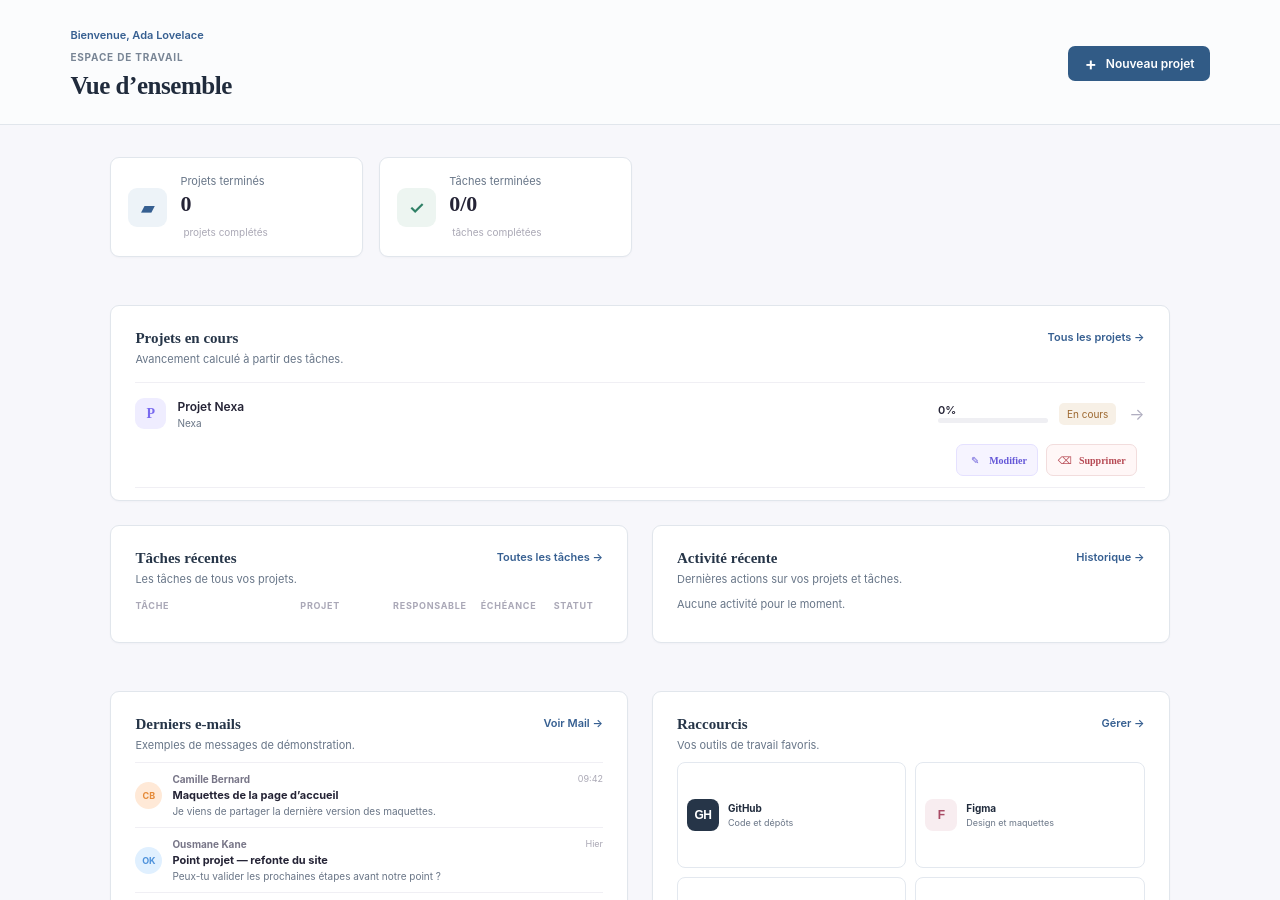
it: DashboardPage › greets the signed-in user and opens the existing project form in a modal
This screenshot has width=1280, height=900.
expect the heading "Bienvenue, Ada Lovelace" is shown: met, box [70,28,204,42]
Step 1. Click the button "+ Nouveau projet" → (1139, 64), box [1068,46,1210,81]
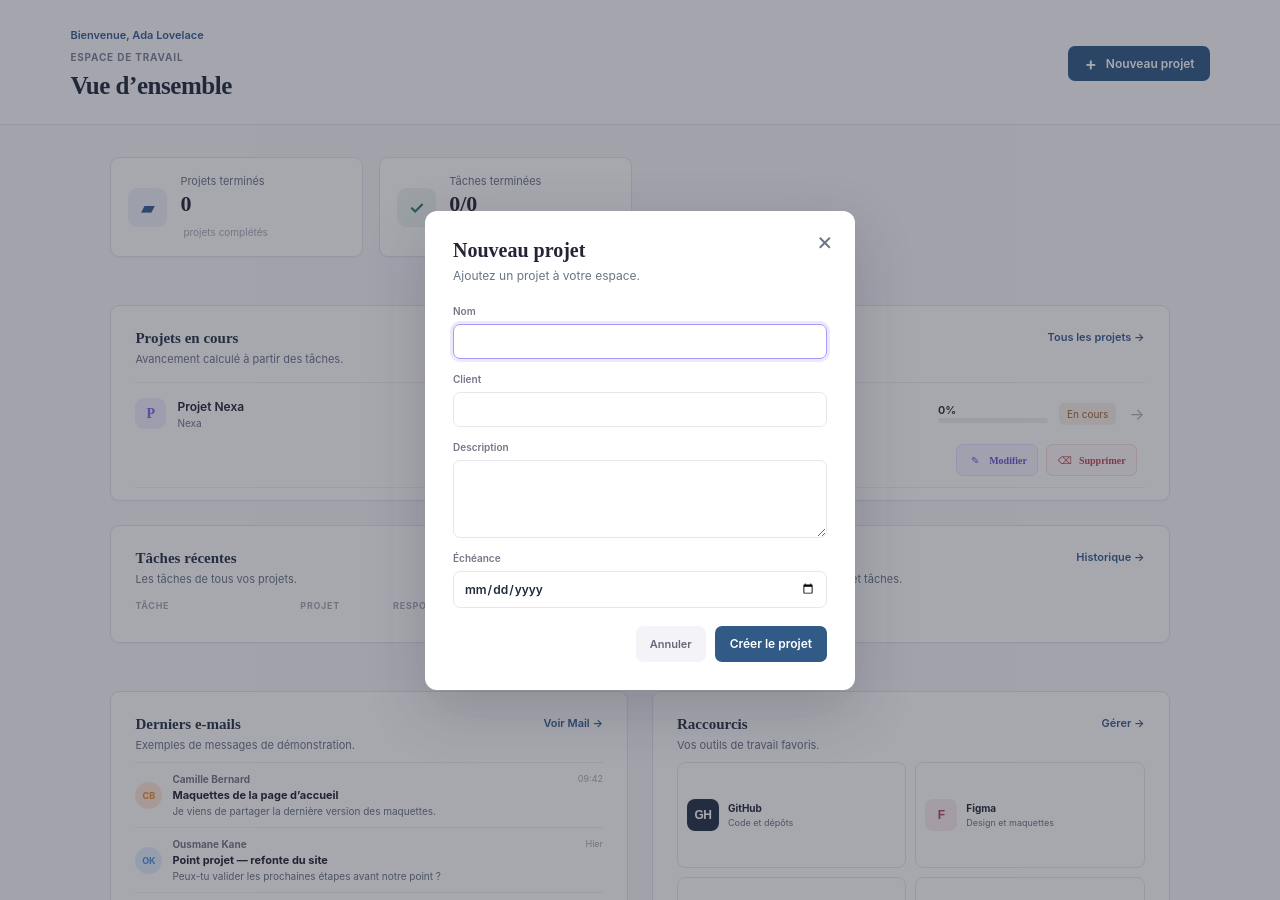
expect the dialog "Nouveau projet" is shown: met, box [425,210,855,690]
Step 2. Type "Projet portfolio" into the field labelled "Nom" → (640, 341), box [453,324,827,358]
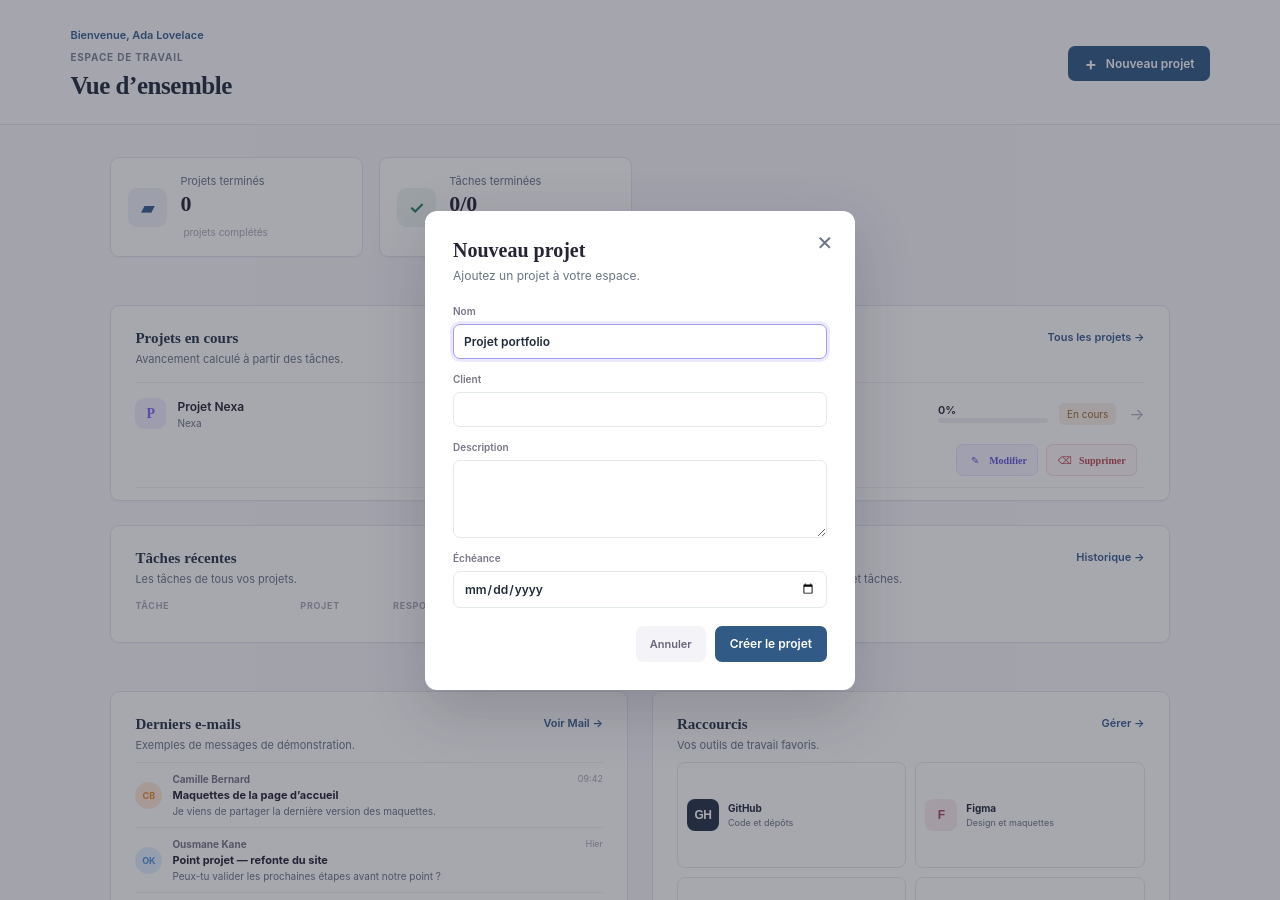
Step 3. Type "Nexa" into the field labelled "Client" → (640, 409), box [453,392,827,426]
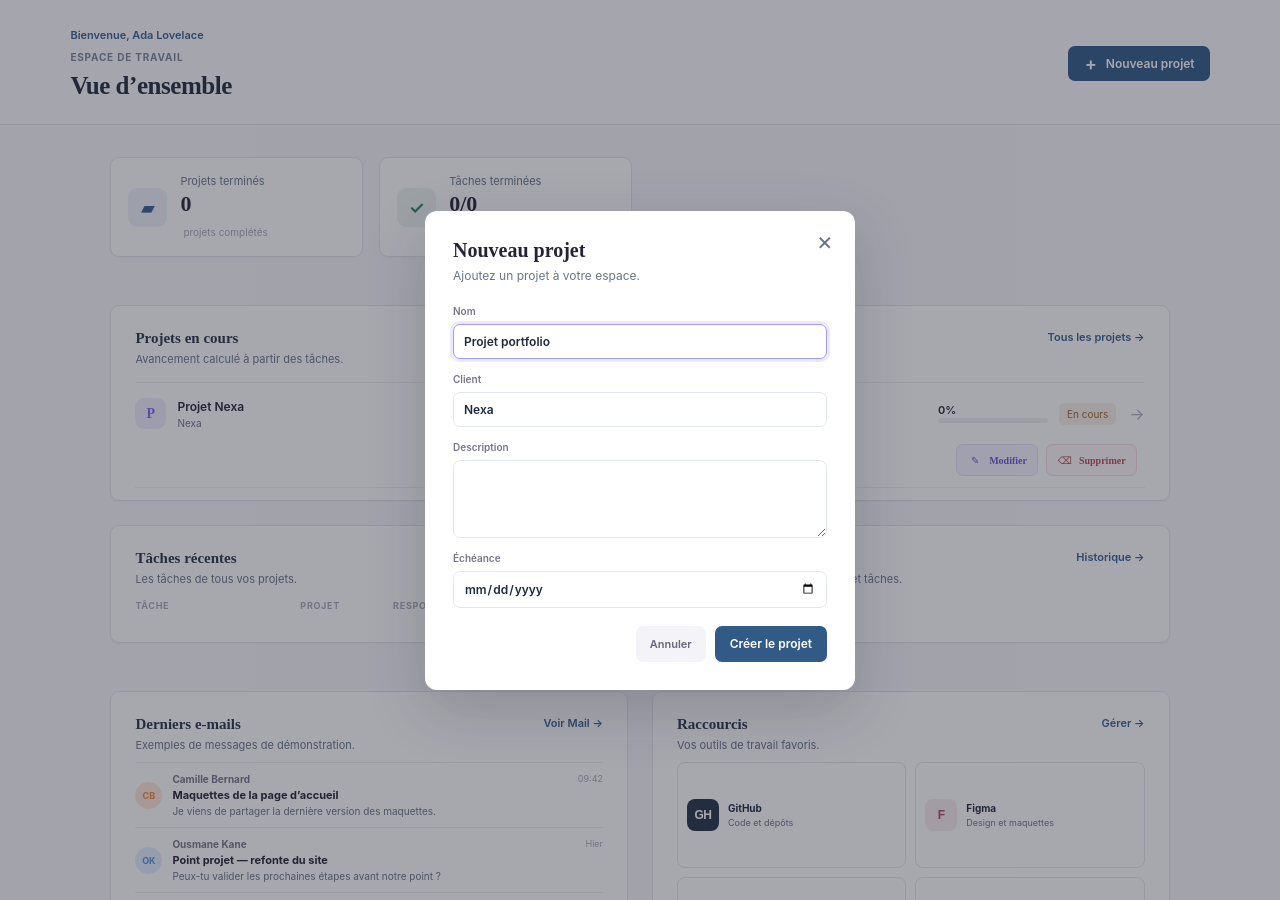
Step 4. Click the button "Créer le projet" → (771, 644), box [715,626,827,662]
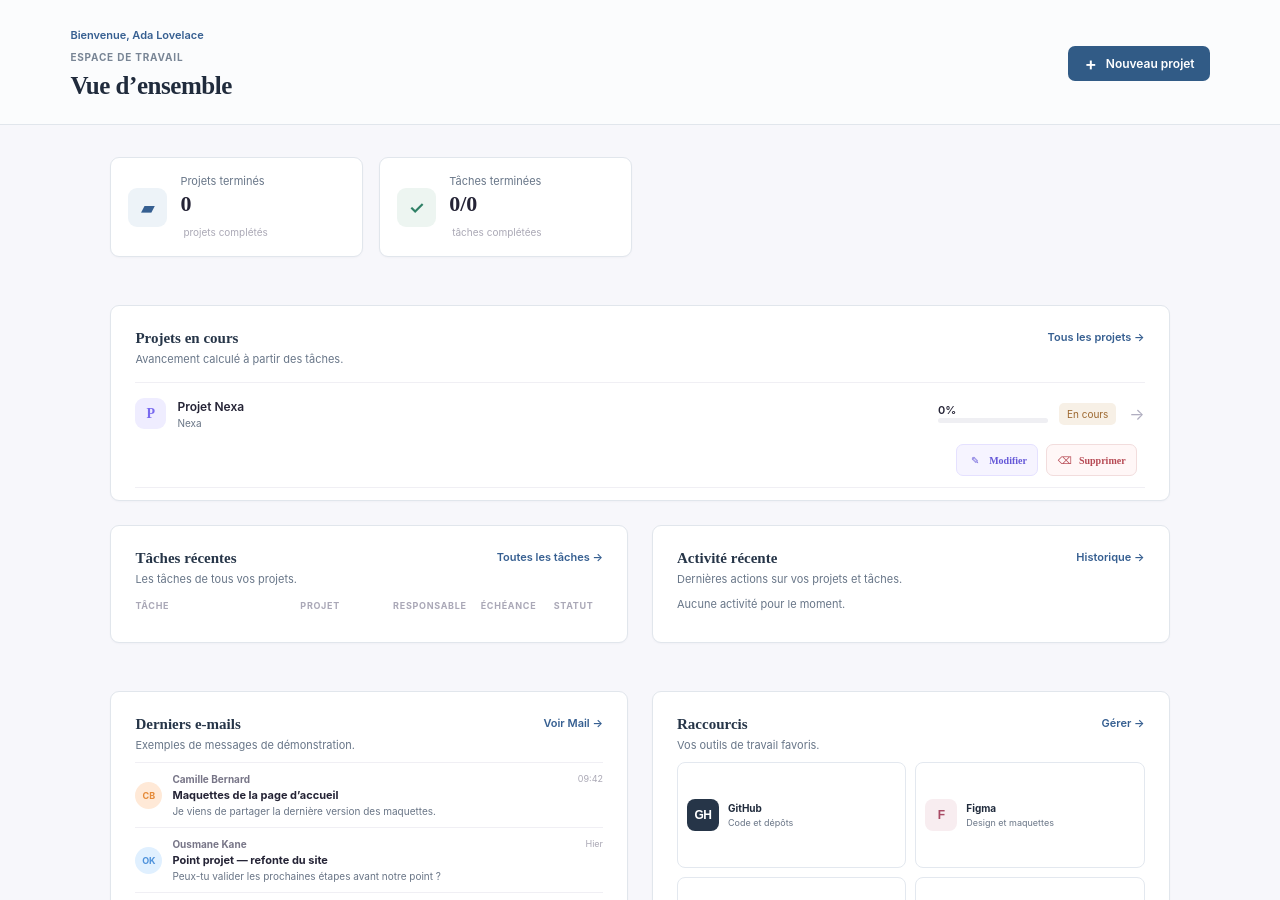
expect the dialog is gone: met
